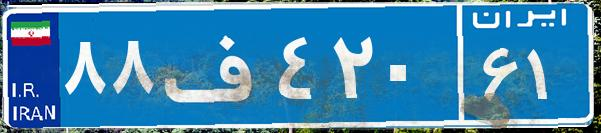0: (385, 28, 445, 110)
1: (525, 38, 570, 115)
2: (330, 28, 385, 110)
4: (273, 28, 330, 110)
6: (475, 38, 525, 113)
8: (57, 26, 110, 107), (110, 28, 158, 105)
ف: (158, 15, 273, 115)
